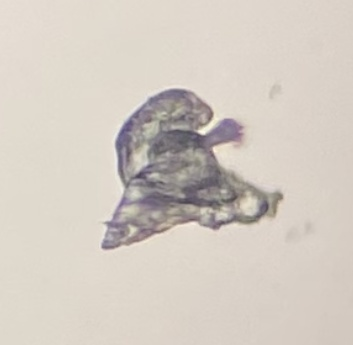microplastic: (102, 87, 284, 247)
